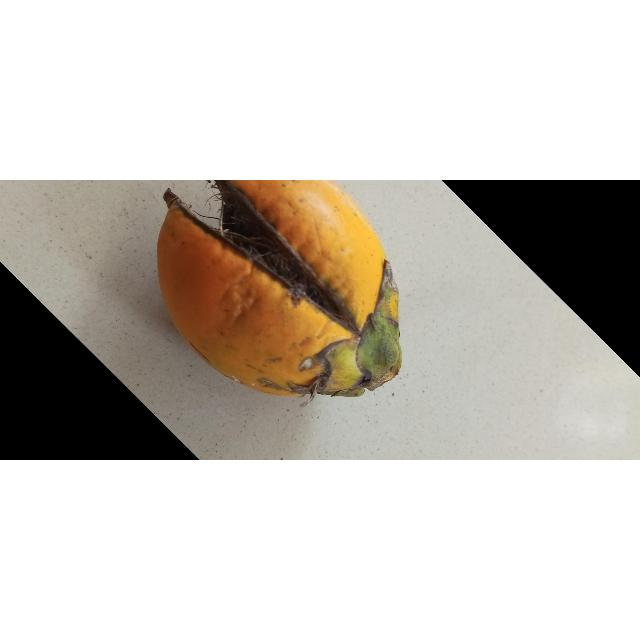damaged: (155, 180, 404, 399)
